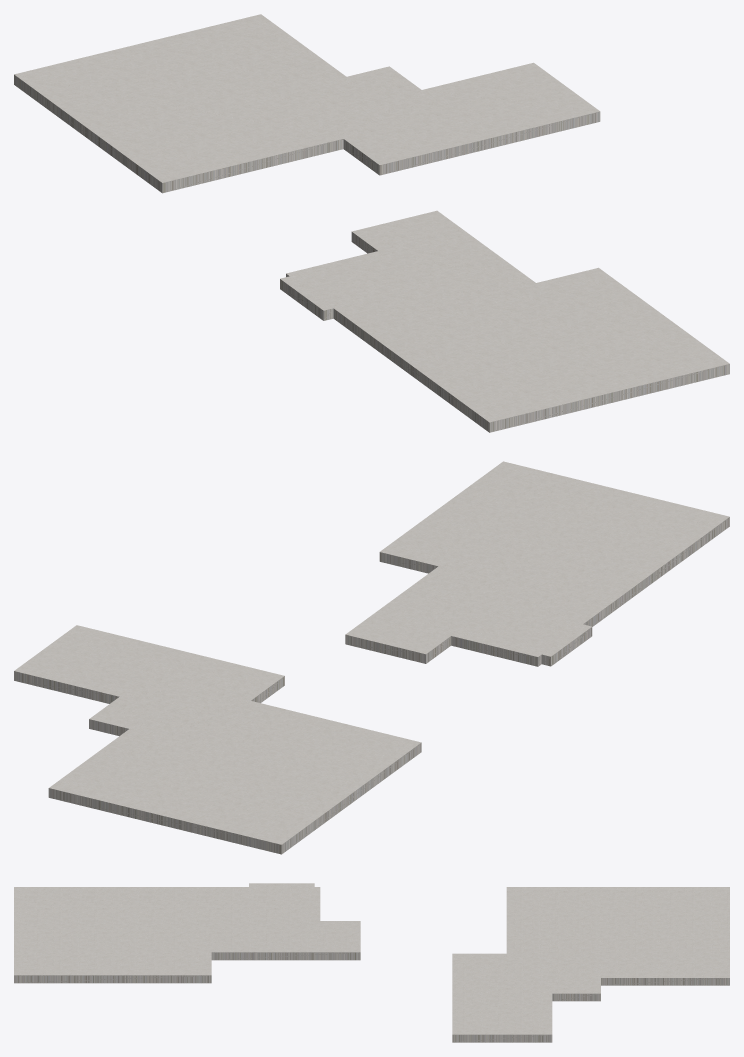
Rendered from KBH_Interior_model1860_Flooring_Carpet.glb.
3 views of the same model, one above another, from view 1: azimuth 30°, elevation 25°; view 2: azimuth 150°, elevation 25°; view 3: azimuth 270°, elevation 25° (orthographic). The views are drawn at different scales.
Parts seen in each view (by area): view 1: Line23596, Line23597; view 2: Line23596, Line23597; view 3: Line23596, Line23597.
Part boxes in pixels (x1,y1,x2,y2): Line23596: (14, 14, 600, 193); Line23597: (280, 210, 729, 432); Line23596: (14, 625, 421, 854); Line23597: (345, 461, 729, 666); Line23596: (452, 887, 729, 1042); Line23597: (14, 883, 360, 983).
Size of the model in its own units: 12.5 by 0.3 by 25.
1 material, 1 textured.
